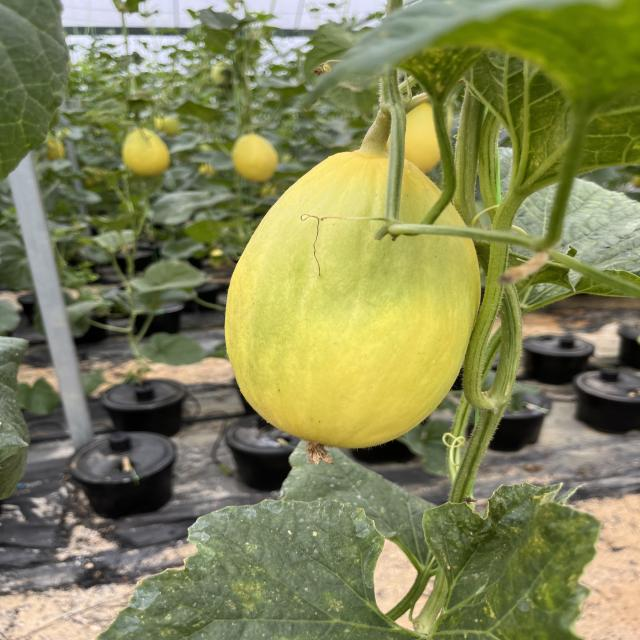CMV: (409, 477, 627, 640)
downy mildew: (80, 495, 404, 640), (415, 469, 625, 640)
